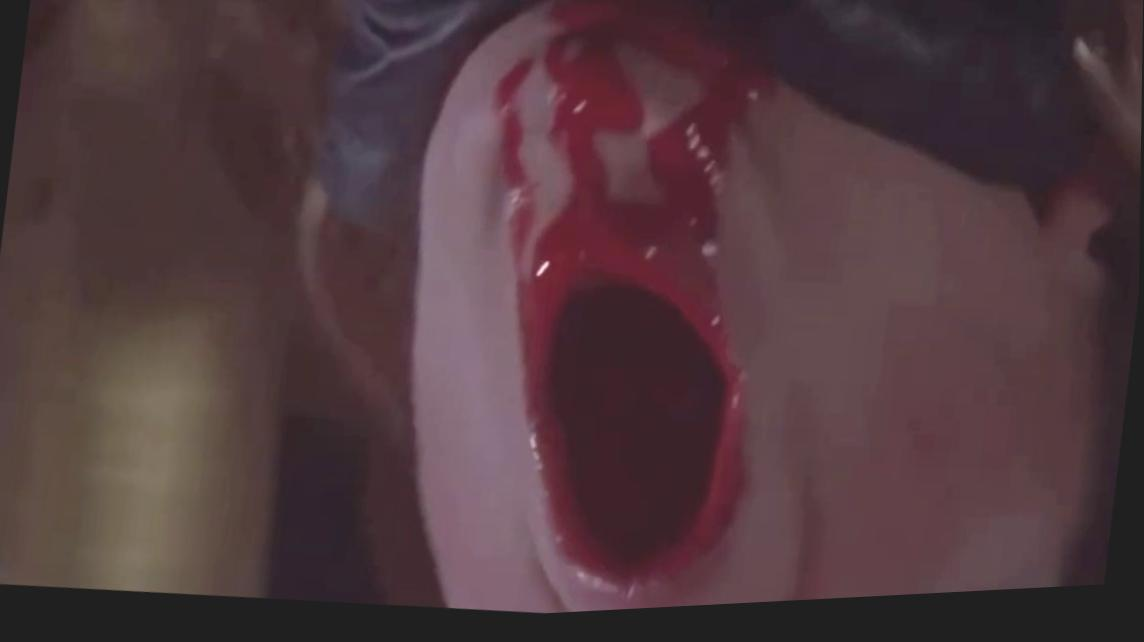Fire: (475, 8, 762, 600)
